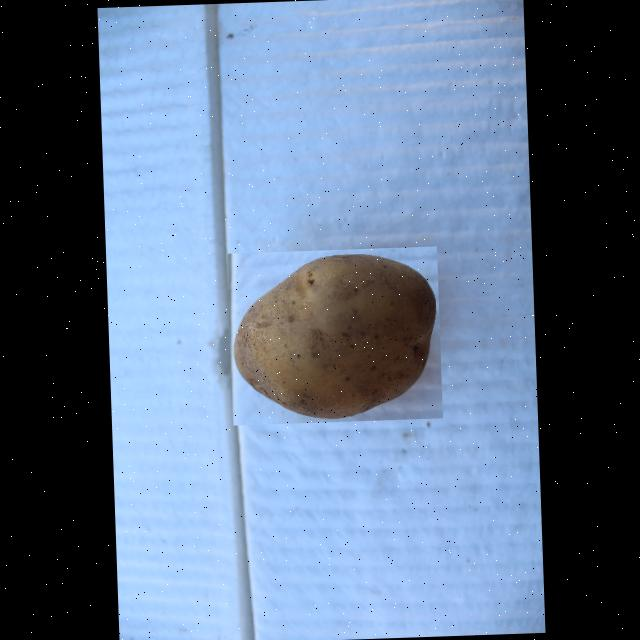Diseased-fungal potato: (226, 246, 442, 425)
